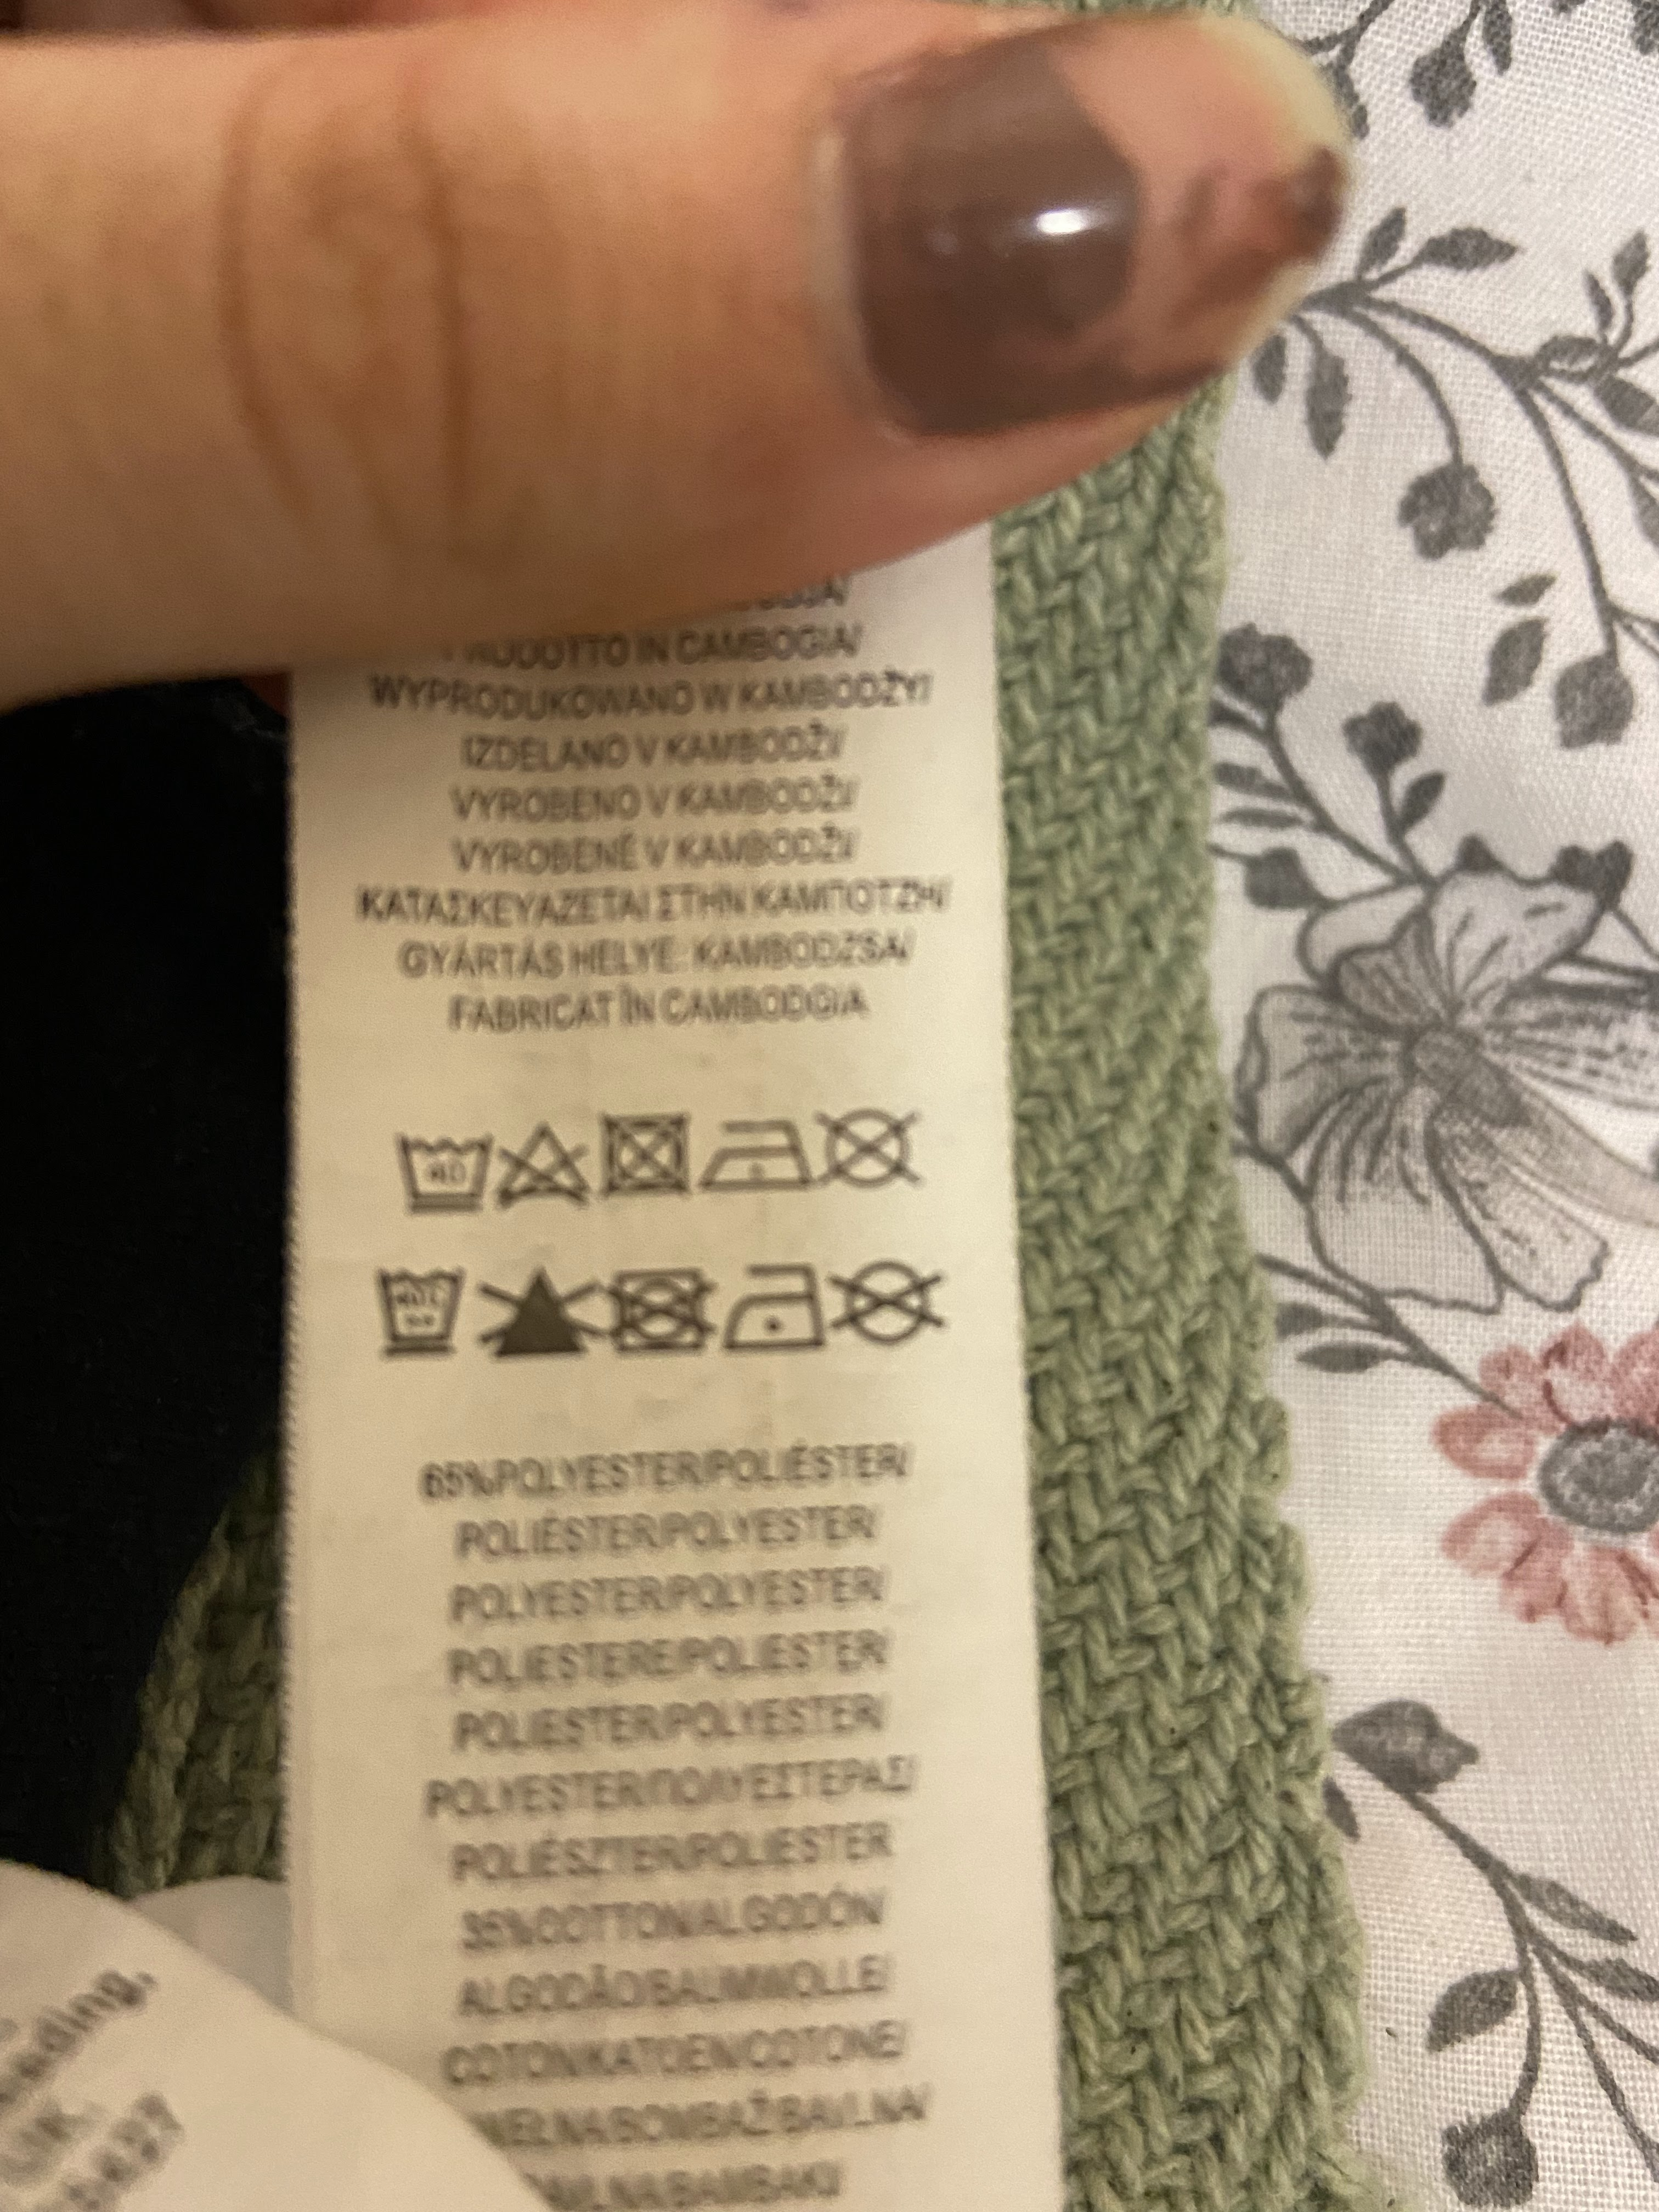do not bleach: (490, 1109, 598, 1224)
do not dry clean: (817, 1075, 929, 1221)
do not tumble dry: (572, 1083, 721, 1212)
iron low temp: (687, 1085, 830, 1207)
wash at or below 40: (375, 1127, 498, 1224)
